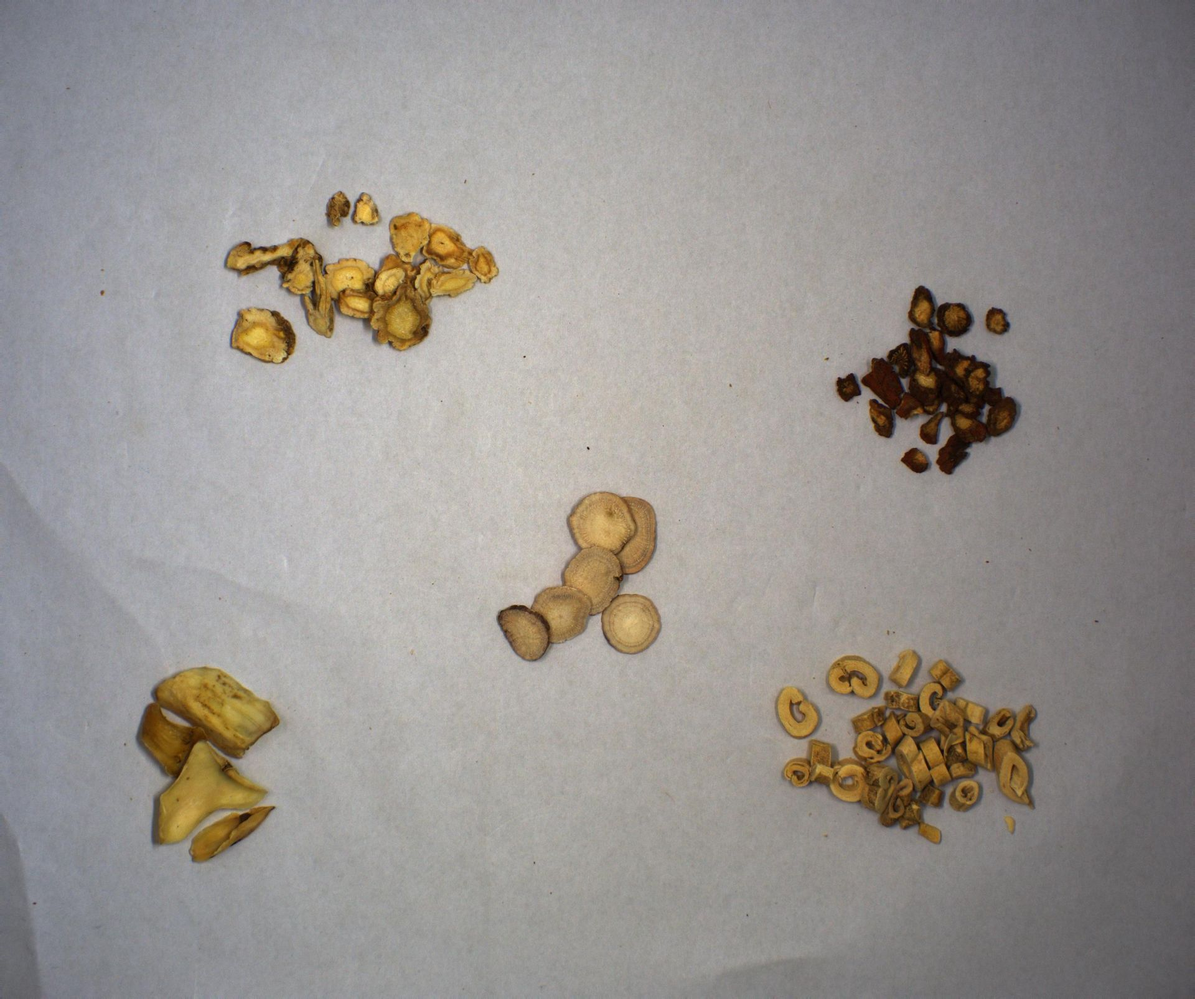baihe: (114, 653, 326, 903)
baishao: (480, 481, 703, 691)
baixianpi: (758, 621, 1076, 865)
danshen: (809, 269, 1063, 504)
jiegeng: (192, 177, 508, 382)
